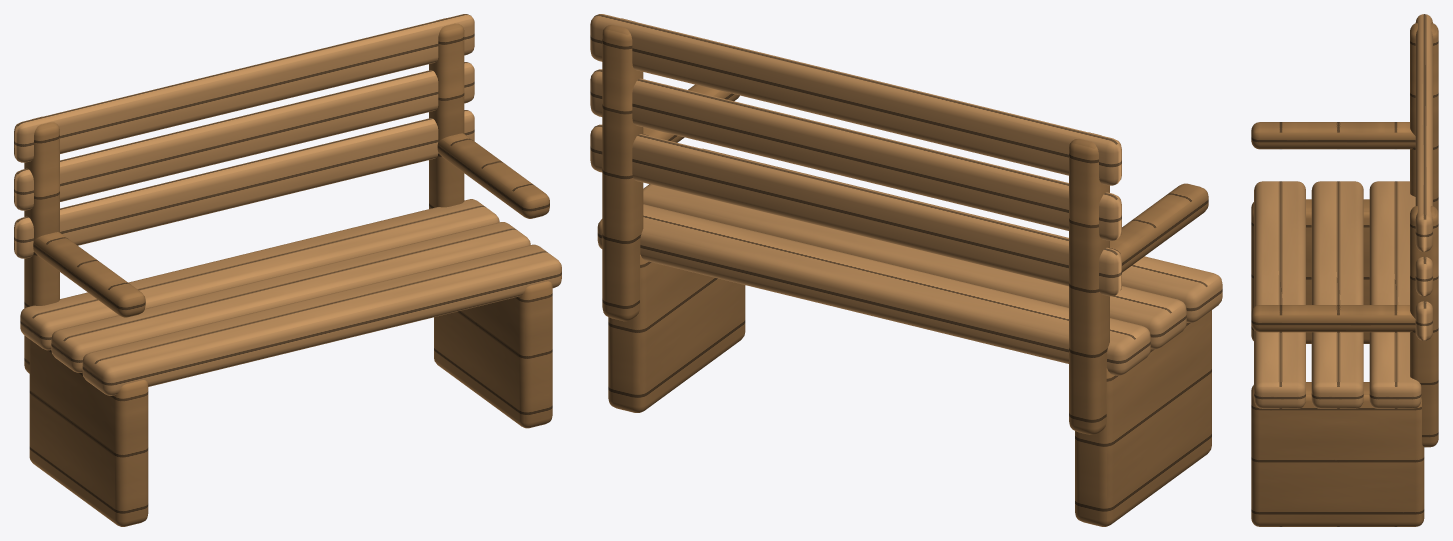
Rendered from bench.glb.
3 renders of one model, left to right at view 1: azimuth 30°, elevation 25°; view 2: azimuth 150°, elevation 25°; view 3: azimuth 270°, elevation 25°, orthographic. The views are drawn at different scales.
Parts seen in each view (by area): view 1: bench; view 2: bench; view 3: bench.
Part boxes in pixels (x1,y1,x2,y2): bench: (14, 14, 561, 526); bench: (590, 14, 1222, 526); bench: (1251, 14, 1438, 526).
Bounding box in the file's own units: 1.7 × 1.21 × 0.65.
2 materials, 2 textured.
